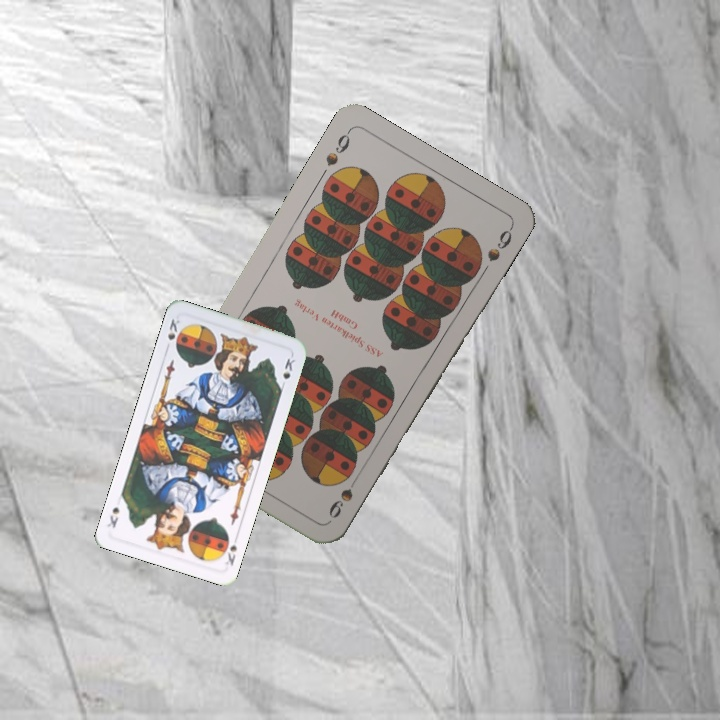S9: (321, 126, 353, 169), (324, 484, 356, 521)
SK: (221, 531, 241, 568), (163, 315, 185, 343)
